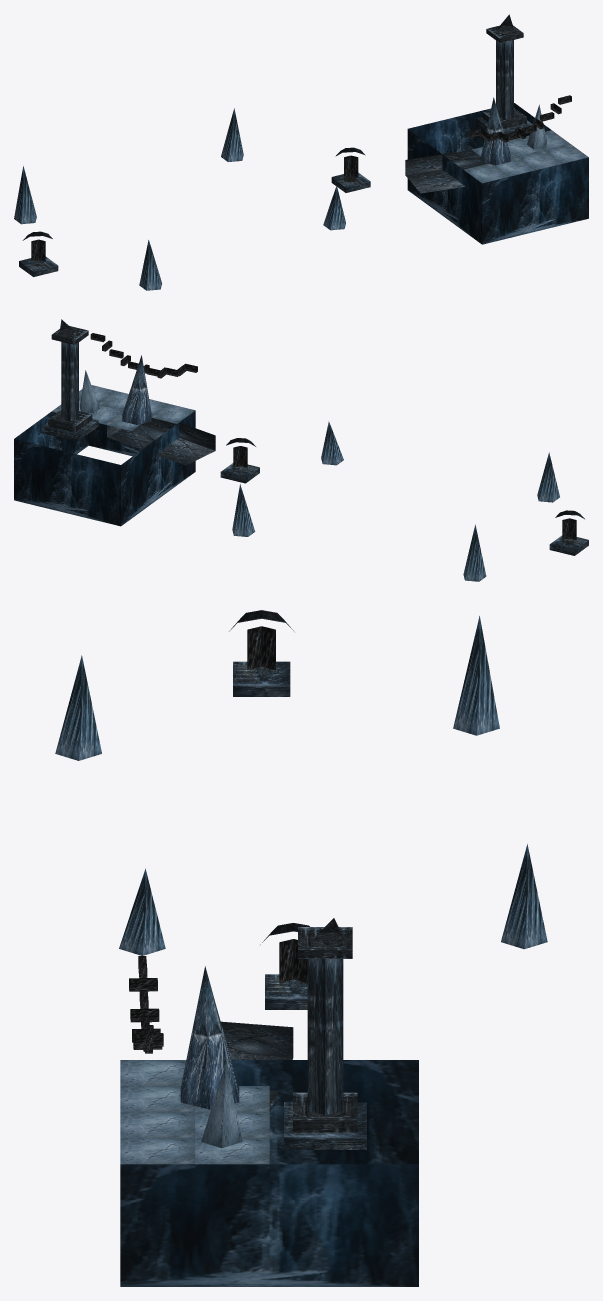
File: citadel_arena_1.obj
3 views of the same model, one above another, from view 1: azimuth 30°, elevation 25°; view 2: azimuth 150°, elevation 25°; view 3: azimuth 270°, elevation 25° (orthographic). The views are drawn at different scales.
Parts seen in each view (by area): view 1: citadel_arena_1; view 2: citadel_arena_1; view 3: citadel_arena_1.
Boxes of the visible parts, left/top/right/bottom form: citadel_arena_1: left=14, top=14, right=588, bottom=290; citadel_arena_1: left=14, top=319, right=588, bottom=581; citadel_arena_1: left=55, top=610, right=547, bottom=1286.
Size of the model in its own units: 30.76 by 9.53 by 12.38.
1 material, 1 textured.
